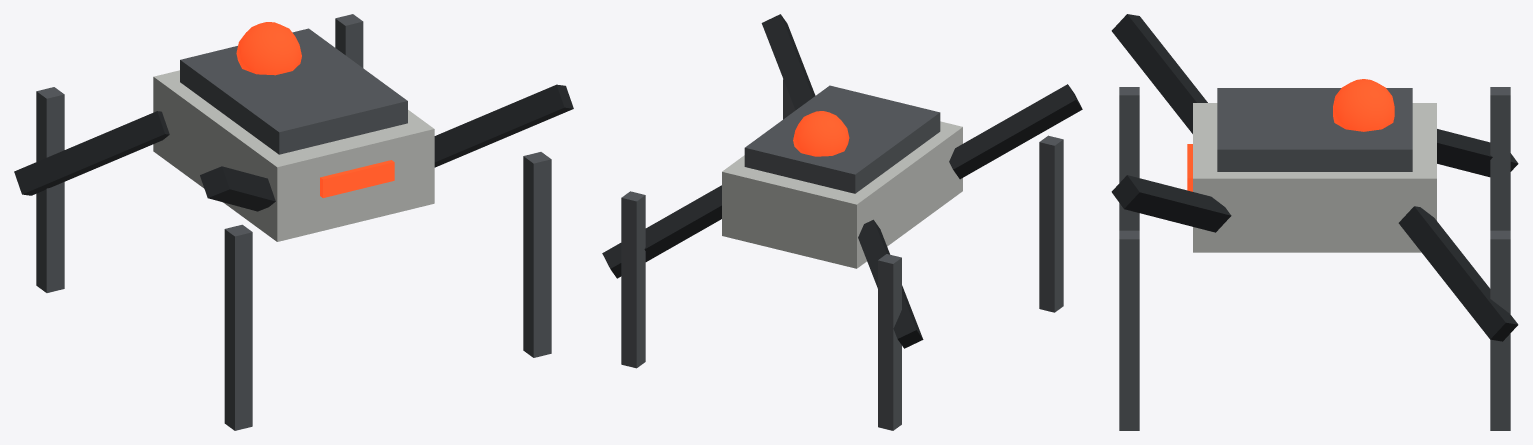
File: pouncer.glb
3 views of the same model, side by side, from view 1: azimuth 30°, elevation 25°; view 2: azimuth 150°, elevation 25°; view 3: azimuth 270°, elevation 25° (orthographic). The views are drawn at different scales.
Visible parts, largest first — view 1: Pouncer; view 2: Pouncer; view 3: Pouncer.
Boxes of the visible parts, x1,y1,x2,y2 form: Pouncer: (14, 14, 573, 430); Pouncer: (602, 14, 1082, 430); Pouncer: (1111, 14, 1518, 430).
Size of the model in its own units: 5.12 by 3.7 by 5.
